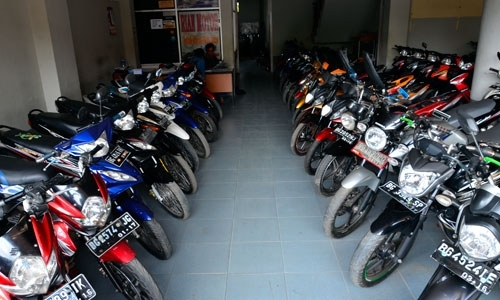plate: (430, 240, 500, 295), (84, 212, 141, 256), (379, 178, 427, 213), (105, 145, 130, 166)
